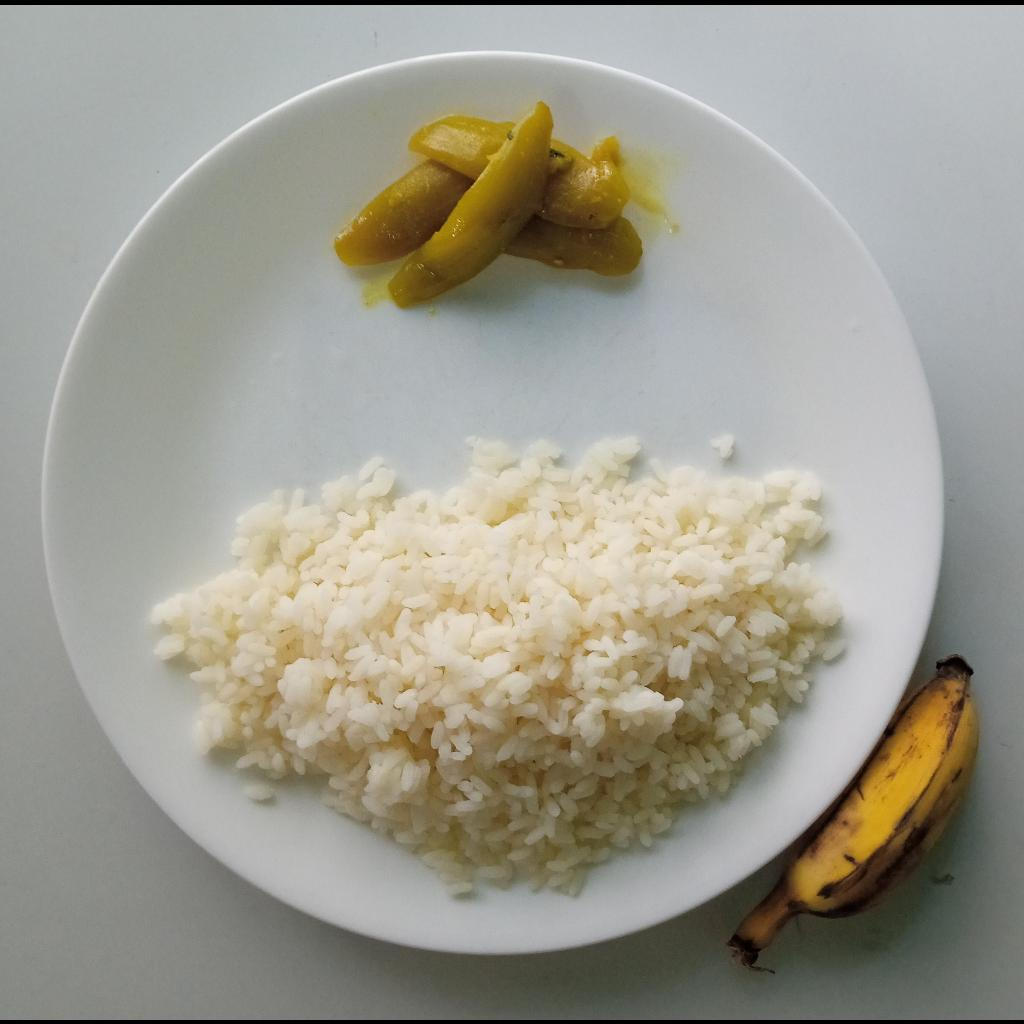banana: (725, 651, 978, 968)
potol: (334, 100, 643, 307)
rice: (150, 435, 846, 899)
